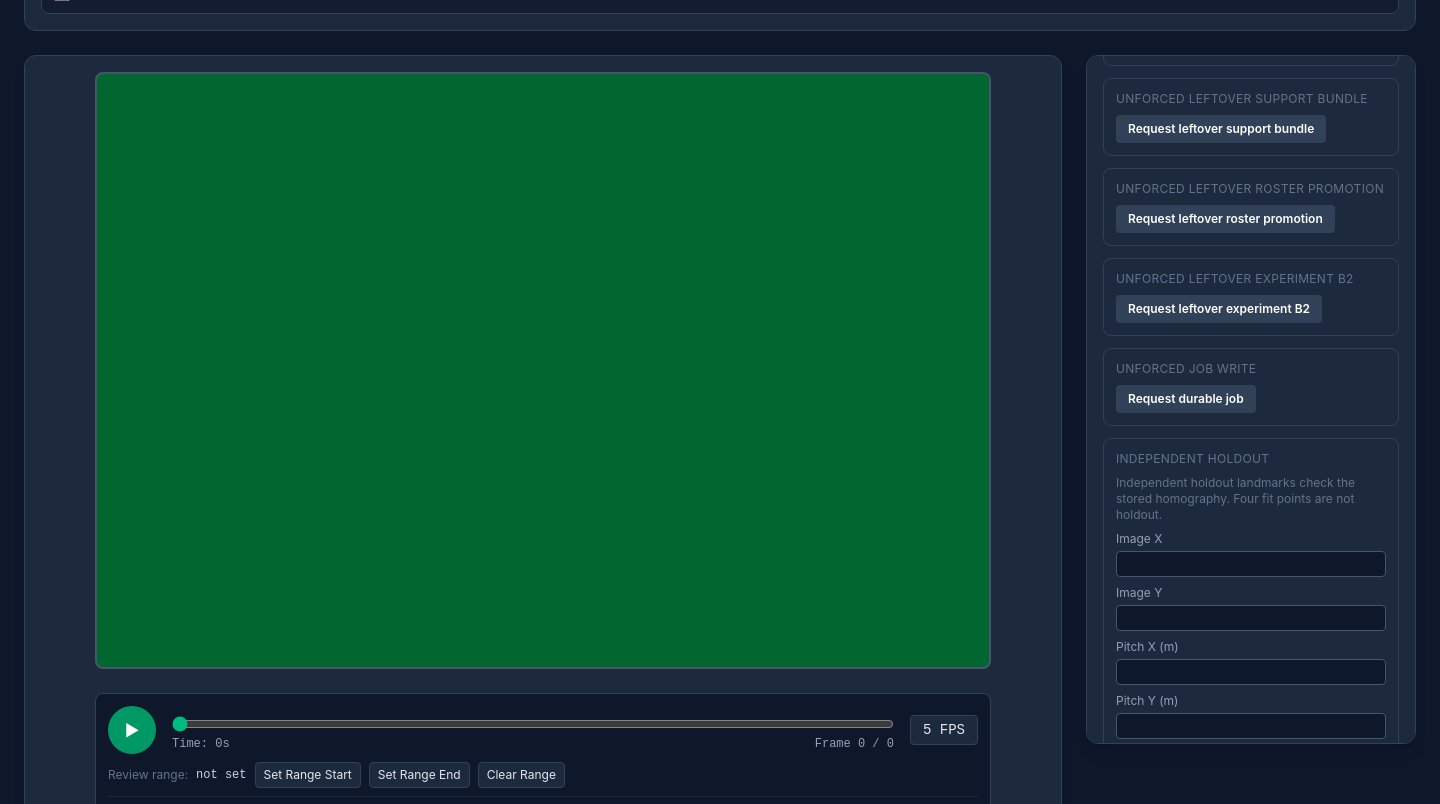
App leftover HTTP surfaces › loads stored job view and rates after a requested durable job and cancels without inventing completed work
(page scrolled)
Click the button "Request durable job".
click(1186, 399)  # box [1116,385,1256,413]
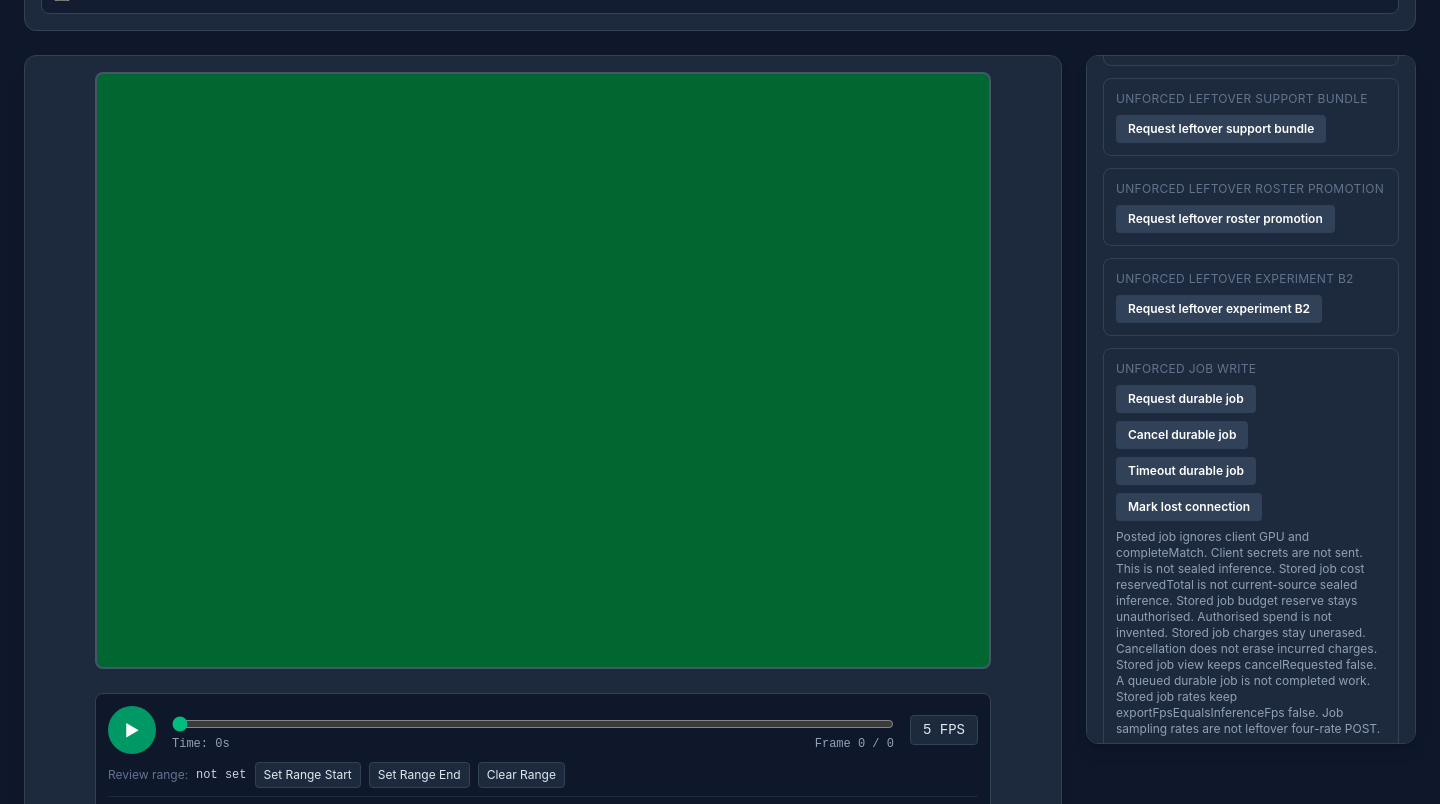
Expected: the text "job sampling rates are not leftover four-rate POST" is shown, [1116,529,1380,736]
Click the button "Cancel durable job".
click(1182, 435)  # box [1116,421,1248,449]
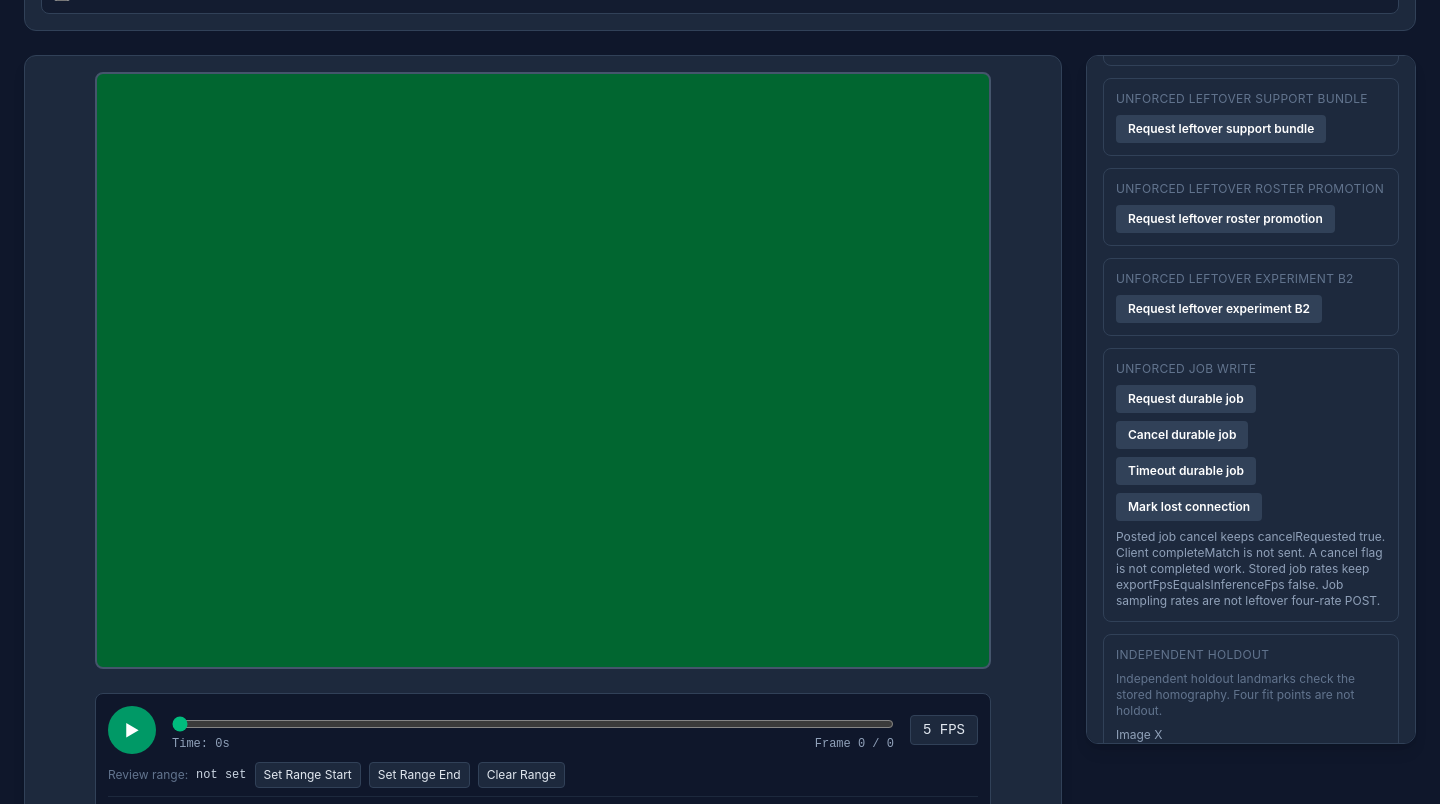
Expected: the text "a cancel flag is not completed work" is shown, [1116,529,1385,608]
